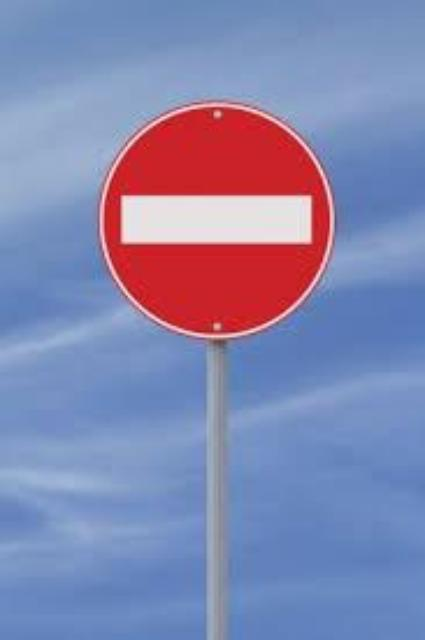B2: (95, 96, 337, 340)
